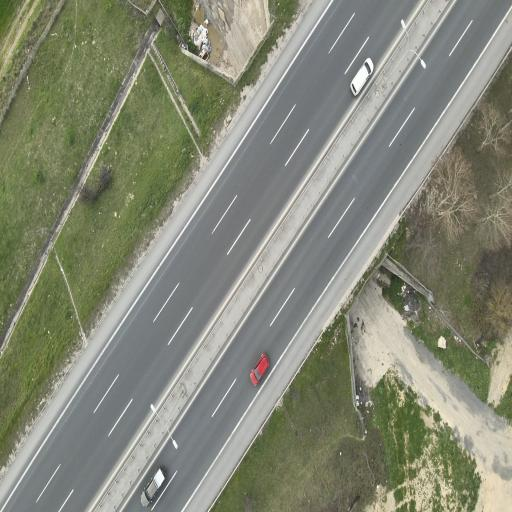car: (141, 466, 165, 505), (350, 58, 374, 96), (251, 353, 269, 384)
